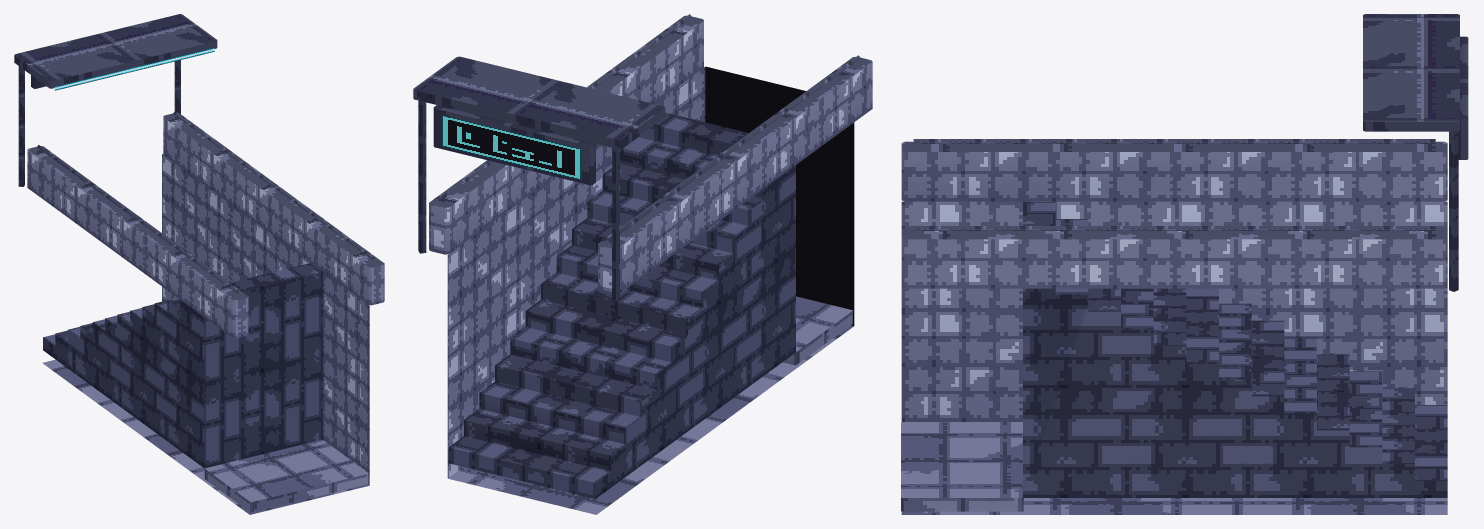
File: cystreet.metro.glb
3 views of the same model, side by side, from view 1: azimuth 30°, elevation 25°; view 2: azimuth 150°, elevation 25°; view 3: azimuth 270°, elevation 25° (orthographic). The views are drawn at different scales.
Parts seen in each view (by area): view 1: kit_stairs, kit_canopy, kit_shell_well, kit_card_sign; view 2: kit_stairs, kit_canopy, kit_shell_well, kit_card_sign; view 3: kit_stairs, kit_canopy, kit_shell_well.
Part boxes in pixels (<box>): kit_stairs: <box>43,263,368,512</box>; kit_canopy: <box>14,14,384,338</box>; kit_shell_well: <box>42,154,369,514</box>; kit_card_sign: <box>42,47,214,90</box>; kit_stairs: <box>448,112,852,498</box>; kit_canopy: <box>413,14,872,300</box>; kit_shell_well: <box>447,66,854,514</box>; kit_card_sign: <box>441,115,581,180</box>; kit_stairs: <box>901,202,1447,511</box>; kit_canopy: <box>901,14,1468,291</box>; kit_shell_well: <box>901,201,1447,514</box>.
Bounding box in the file's own units: 4.2 × 7.43 × 9.38.
10 materials, 10 textured.
